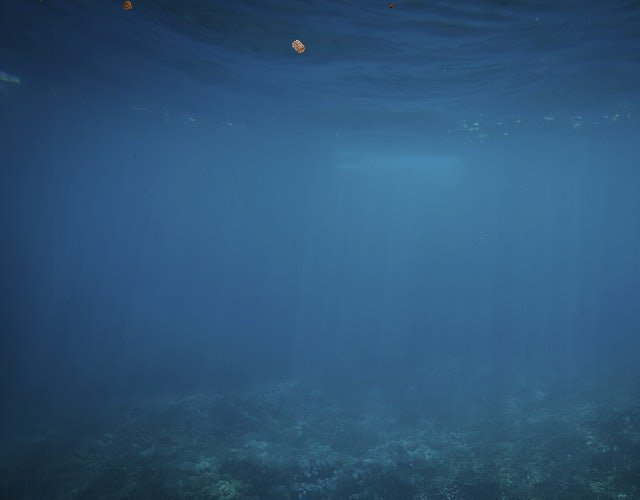Pellet: (284, 32, 312, 60)
